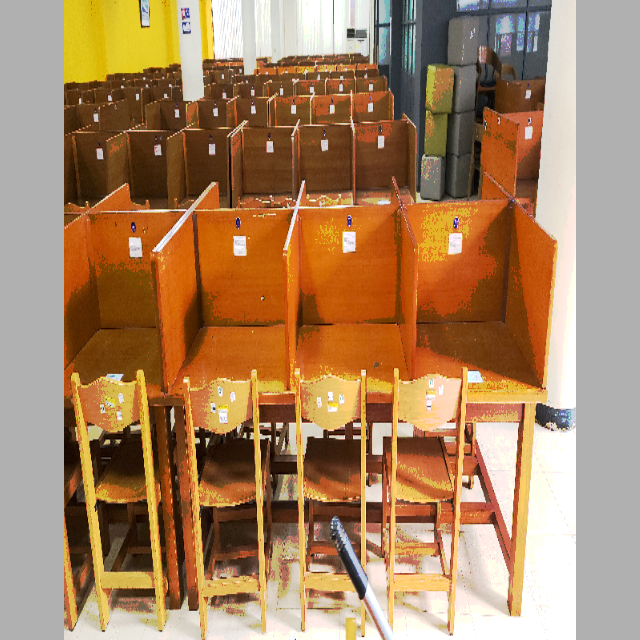empty: (415, 191, 553, 482), (168, 202, 285, 488), (291, 198, 408, 482)
